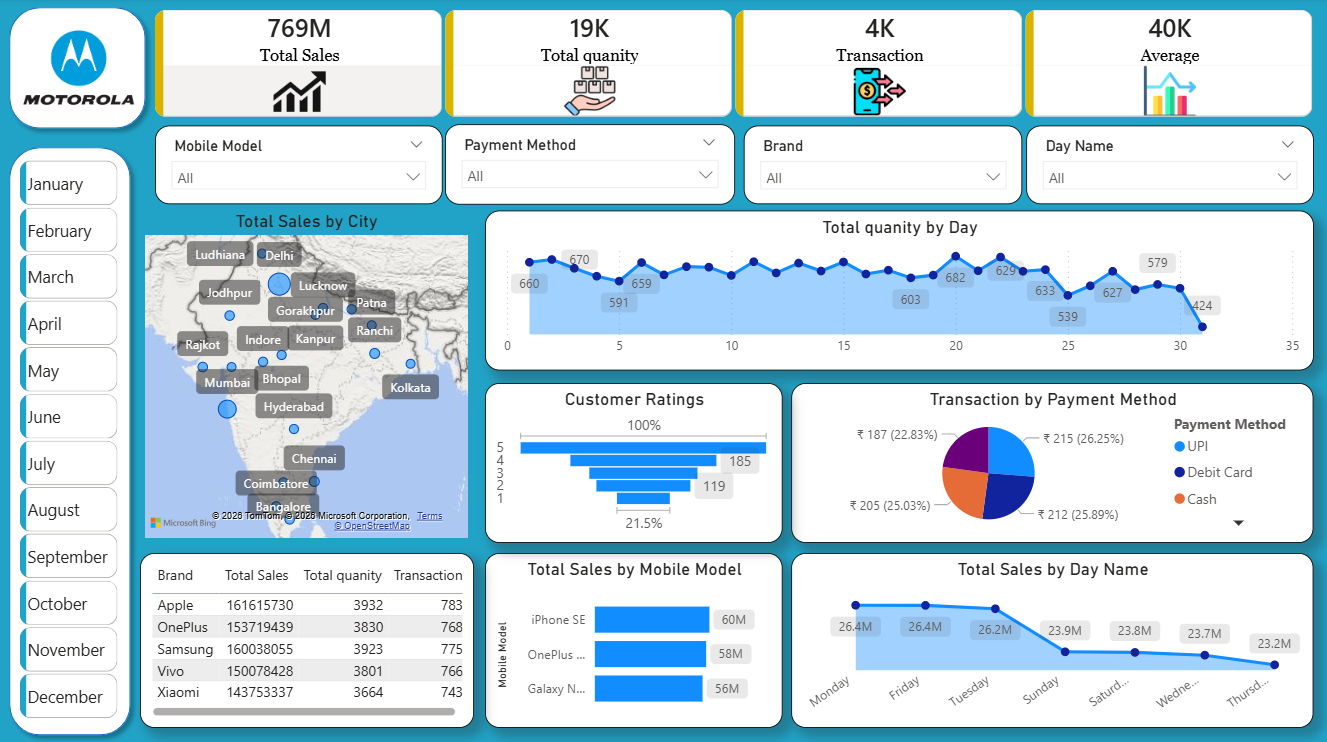

What the dashboard file says about the page in this screenshot:
{"tool":"powerbi","page":{"name":"Page 1","canvas":[1280,720],"ordinal":0},"visuals":[{"type":"shape","box":[0,0,149.4,134.9],"z":0},{"type":"image","box":[7.2,30.1,134.9,74.7],"z":1000},{"type":"shape","box":[0,134.9,134.9,585.5],"z":2000},{"type":"advancedSlicerVisual","fields":{"Values":["Sales_Data.Date .Variation.Date Hierarchy.Month"]},"box":[14.5,151.8,104.8,553],"z":3000},{"type":"cardVisual","fields":{"Data":["Sales_Data.Total Sales","Sales_Data.Total quanity","Sales_Data.Transaction","Sales_Data.Average"]},"box":[149.6,8.4,1118.4,109.8],"z":4000},{"type":"map","fields":{"Category":["Sales_Data.City"],"Size":["Sales_Data.Total Sales"]},"box":[135.1,205.1,322.1,320.9],"z":5000},{"type":"lineChart","fields":{"Y":["Sales_Data.Total quanity"],"Category":["Sales_Data.Date .Variation.Date Hierarchy.Month","Sales_Data.Date .Variation.Date Hierarchy.Day"]},"box":[468.1,205.1,799.9,154.4],"z":6000},{"type":"clusteredBarChart","fields":{"Category":["Sales_Data.Mobile Model"],"Y":["Sales_Data.Total Sales"]},"box":[468.1,535.7,287.1,168.9],"z":7000},{"type":"pieChart","fields":{"Y":["Sales_Data.Transaction"],"Category":["Sales_Data.Payment Method"]},"box":[763.7,371.6,504.3,154.4],"z":8000},{"type":"funnel","title":" Customer Ratings","fields":{"Category":["Sales_Data.Customer Ratings"],"Y":["CountNonNull(Sales_Data.Customer Ratings)"]},"box":[468.1,371.6,287.1,154.4],"z":9000},{"type":"areaChart","fields":{"Category":["Sales_Data.Day Name"],"Y":["Sales_Data.Total Sales"]},"box":[763.7,535.7,504.3,168.9],"z":10000},{"type":"tableEx","fields":{"Values":["Sales_Data.Brand","Sales_Data.Total Sales","Sales_Data.Total quanity","Sales_Data.Transaction"]},"box":[135.1,535.7,322.1,168.9],"z":11000},{"type":"slicer","fields":{"Values":["Sales_Data.Mobile Model"]},"box":[149.6,123.1,277.5,76],"z":12000},{"type":"slicer","fields":{"Values":["Sales_Data.Payment Method"]},"box":[429.5,121.9,279.9,77.2],"z":13000},{"type":"slicer","fields":{"Values":["Sales_Data.Brand"]},"box":[717.8,123.1,269,76],"z":14000},{"type":"slicer","fields":{"Values":["Sales_Data.Day Name"]},"box":[990.5,123.1,277.5,76],"z":15000}]}

Visuals, with their boxes in screenshot pixels (x1, y1, x2, y2), scaled from the page's 1280x720 canvas onto the 1327x742 screenshot:
shape: bbox=[0, 0, 155, 139]
image: bbox=[7, 31, 147, 108]
shape: bbox=[0, 139, 140, 741]
advancedSlicerVisual - Sales_Data.Date .Variation.Date Hierarchy.Month: bbox=[15, 156, 124, 726]
cardVisual - Sales_Data.Total Sales x Sales_Data.Total quanity: bbox=[155, 9, 1315, 122]
map - Sales_Data.City x Sales_Data.Total Sales: bbox=[140, 211, 474, 542]
lineChart - Sales_Data.Total quanity x Sales_Data.Date .Variation.Date Hierarchy.Month: bbox=[485, 211, 1315, 370]
clusteredBarChart - Sales_Data.Mobile Model x Sales_Data.Total Sales: bbox=[485, 552, 783, 726]
pieChart - Sales_Data.Transaction x Sales_Data.Payment Method: bbox=[792, 383, 1315, 542]
" Customer Ratings" funnel: bbox=[485, 383, 783, 542]
areaChart - Sales_Data.Day Name x Sales_Data.Total Sales: bbox=[792, 552, 1315, 726]
tableEx - Sales_Data.Brand x Sales_Data.Total Sales: bbox=[140, 552, 474, 726]
slicer - Sales_Data.Mobile Model: bbox=[155, 127, 443, 205]
slicer - Sales_Data.Payment Method: bbox=[445, 126, 735, 205]
slicer - Sales_Data.Brand: bbox=[744, 127, 1023, 205]
slicer - Sales_Data.Day Name: bbox=[1027, 127, 1315, 205]
